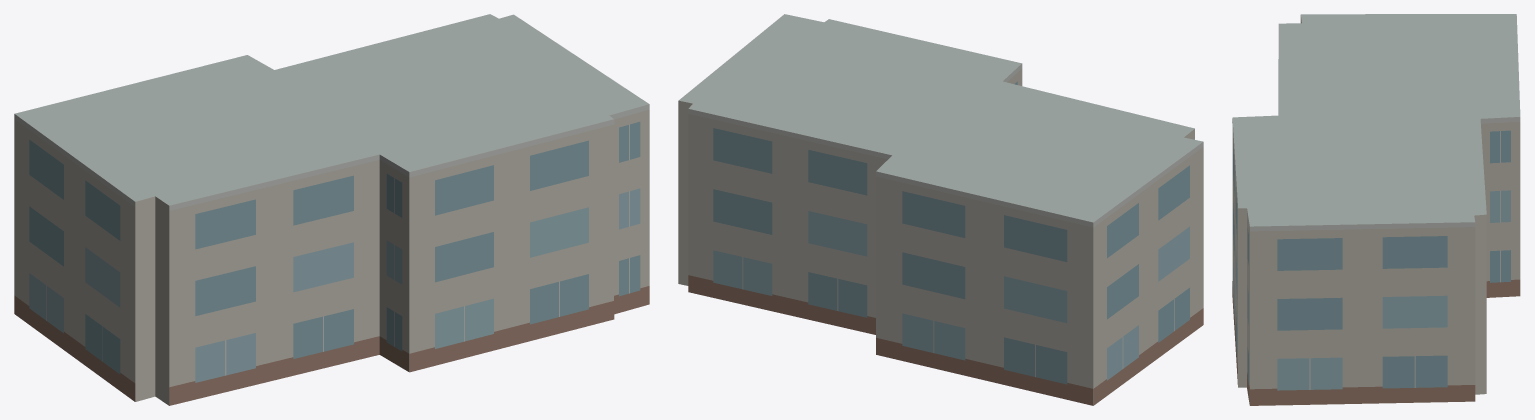
The model's file is survey-upis-32674127.glb.
3 renders of one model, left to right at view 1: azimuth 30°, elevation 25°; view 2: azimuth 150°, elevation 25°; view 3: azimuth 270°, elevation 25°, orthographic. The views are drawn at different scales.
Visible parts, largest first — view 1: survey-upis-32674127.tmp; view 2: survey-upis-32674127.tmp; view 3: survey-upis-32674127.tmp.
Part boxes in pixels (left/top/right/bottom): survey-upis-32674127.tmp: left=14, top=14, right=649, bottom=405; survey-upis-32674127.tmp: left=678, top=14, right=1203, bottom=405; survey-upis-32674127.tmp: left=1232, top=14, right=1520, bottom=405.
Size of the model in its own units: 23.26 by 9.15 by 13.32.
